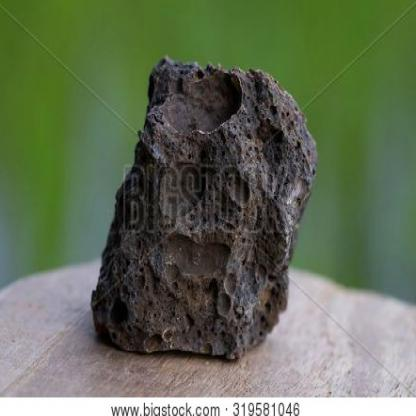Igneous_Basalt: (90, 37, 320, 368)
